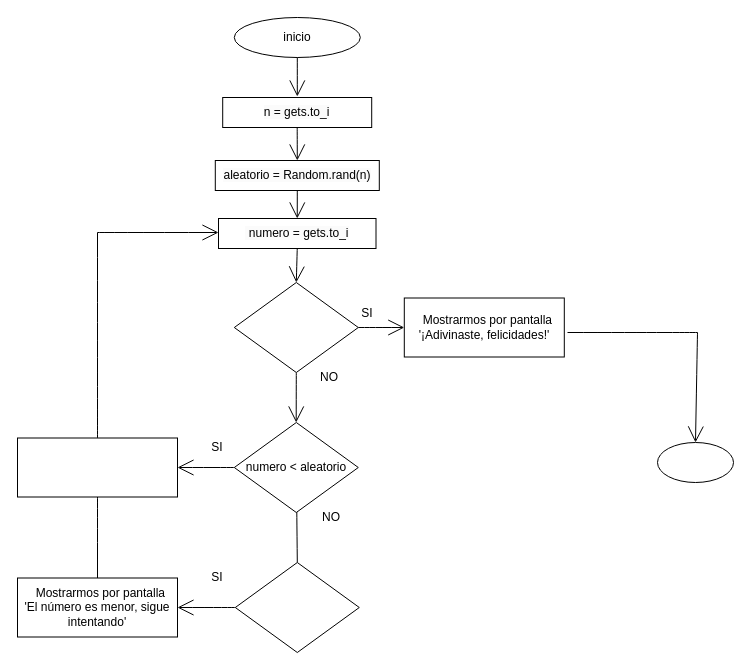
The diagram is 751 pixels wide and 670 high, and some of its shapes have lost their labels. Each missing label, with the centre of its shape:
fin: (x=695, y=462)
Mostrarmos por pantalla 'El número es mayor, sigue intentando': (x=97, y=467)
numero == aleatorio: (x=295, y=327)
numero > aleatorio: (x=296, y=607)
